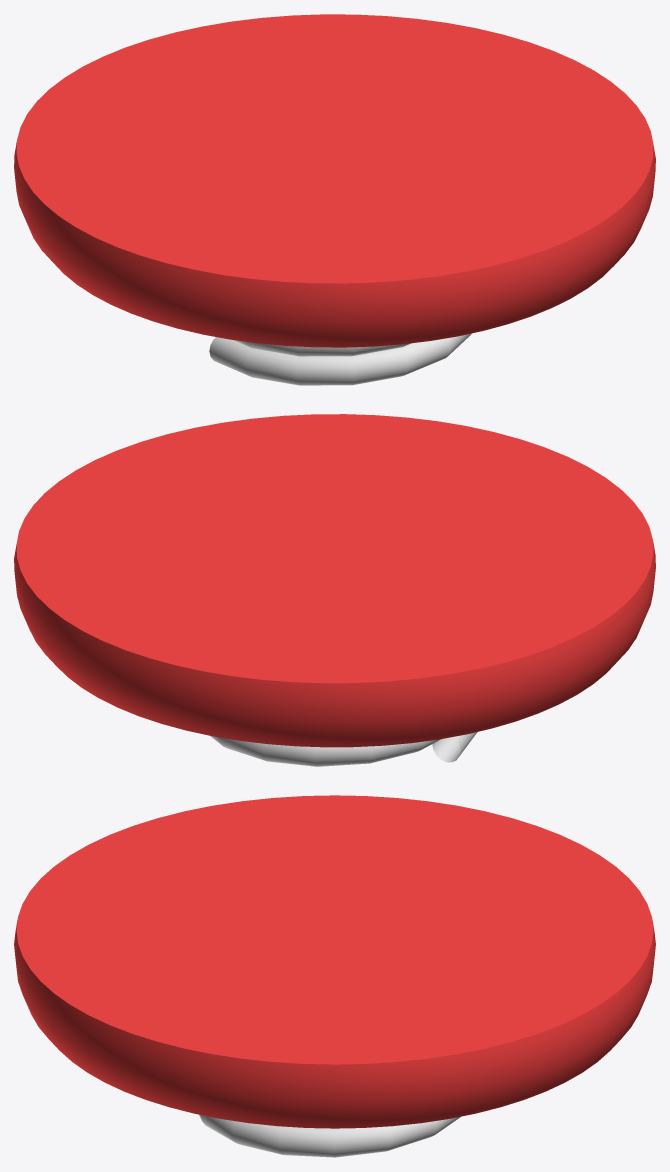
Rendered from SpringModel.glb.
The picture shows the model from 3 angles, top to bottom: view 1: azimuth 30°, elevation 25°; view 2: azimuth 150°, elevation 25°; view 3: azimuth 270°, elevation 25°; orthographic projection.
Parts seen in each view (by area): view 1: Cube, Circle; view 2: Cube, Circle; view 3: Cube, Circle.
Boxes of the visible parts, x1,y1,x2,y2 form: Cube: [14, 14, 655, 347]; Circle: [209, 333, 471, 385]; Cube: [14, 414, 655, 747]; Circle: [210, 732, 477, 766]; Cube: [14, 795, 655, 1128]; Circle: [199, 1114, 460, 1157].
Size of the model in its own units: 1 by 0.3203 by 1.
